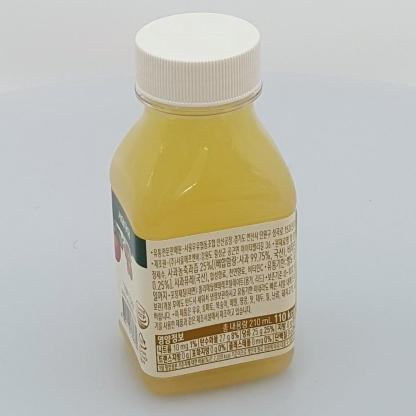-----------210ML: (109, 12, 296, 394)
